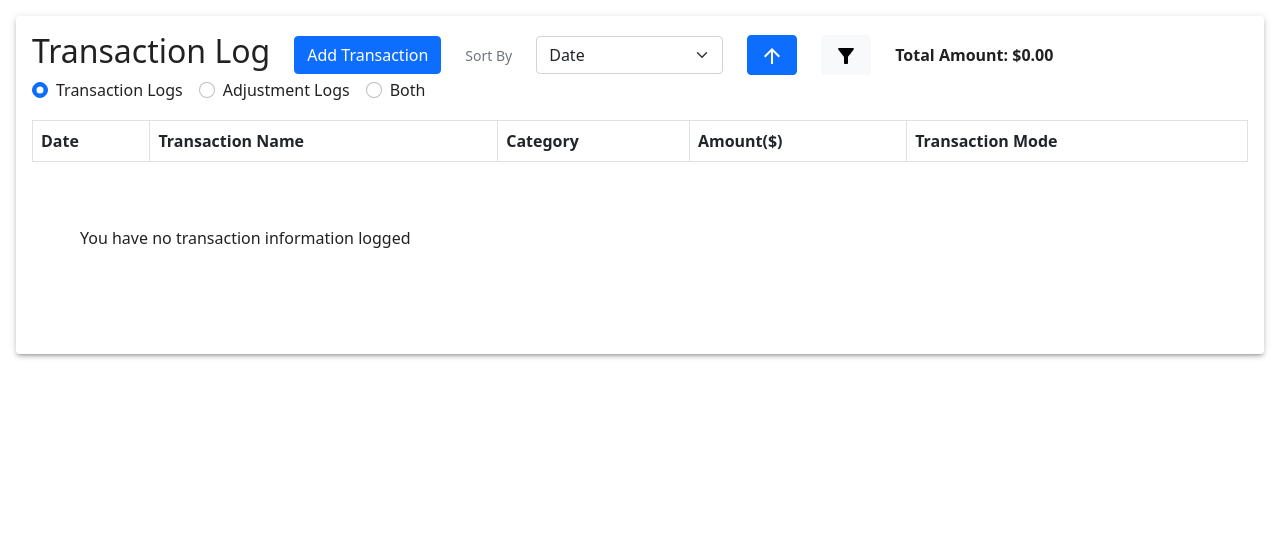
Test: filter variable changes dynamically
Click the button named "filter": {"x": 846, "y": 55} [821,35,871,75]
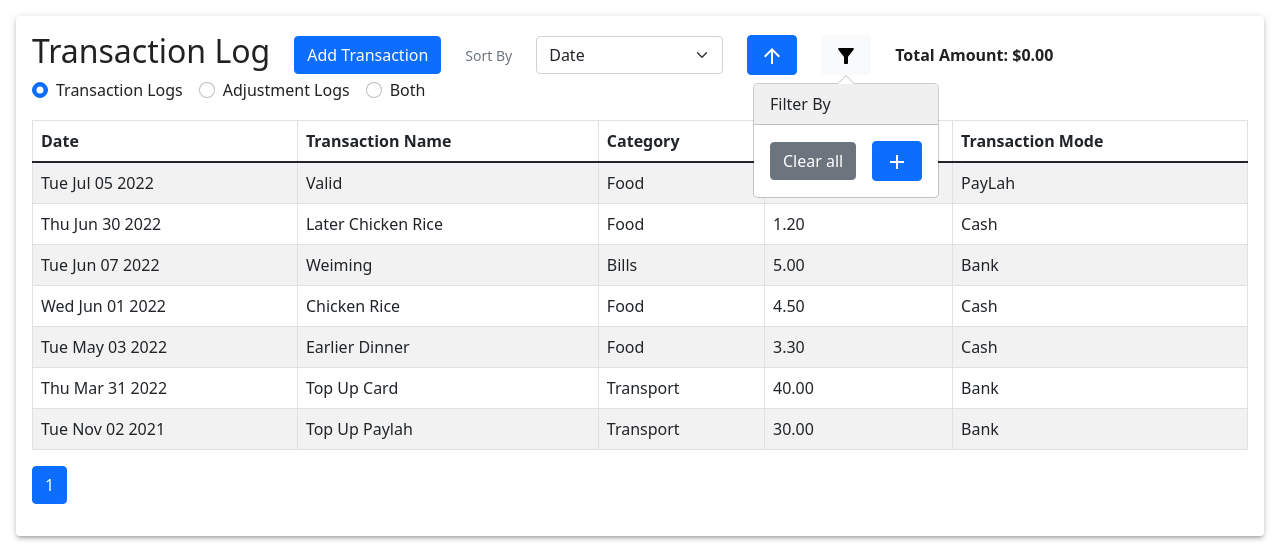
Result: the text "Filter By" is shown at [754,84,938,125]
Click the button named "addfilter": {"x": 897, "y": 161} [872,141,922,181]
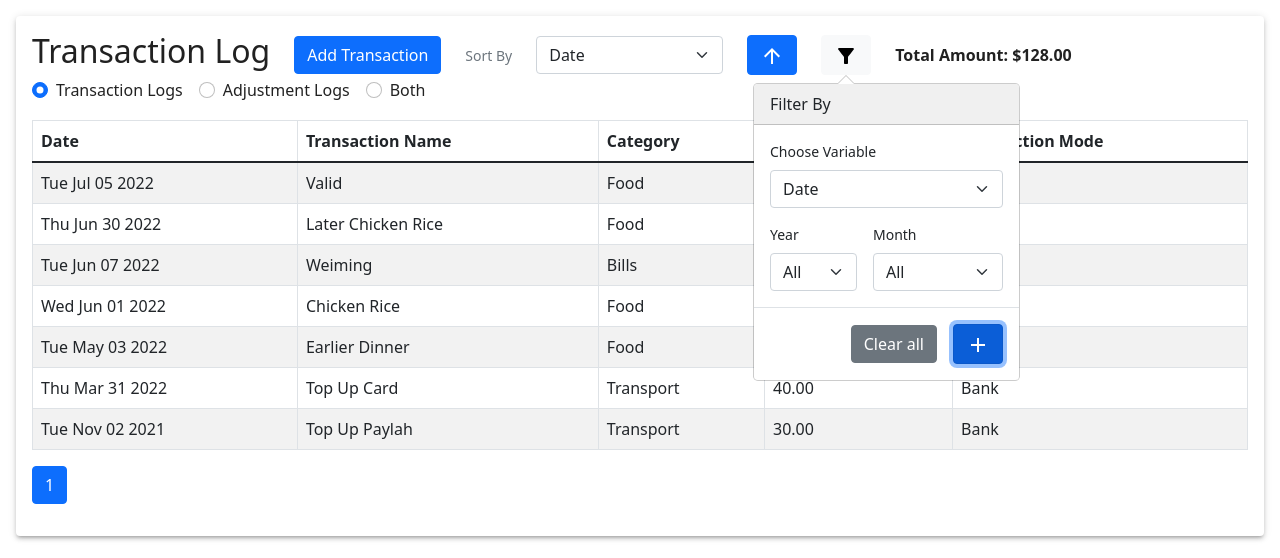
Result: the text "Year" is shown at [770,224,799,245]
Result: the text "Month" is shown at [873,224,916,245]
Result: the dropdown labelled "Choose Variable" is shown
Select "Category" in the dropdown labelled "Choose Variable": {"x": 886, "y": 189} [770,170,1003,208]
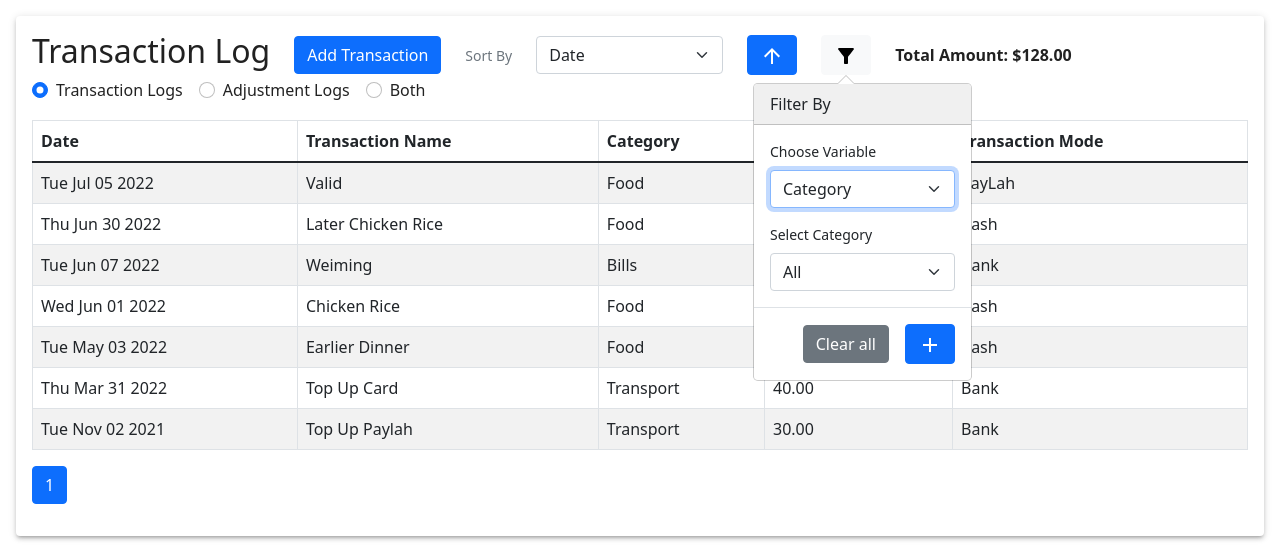
Result: the text "Select Category" is shown at [770,224,872,245]
Select "Amount" in the dropdown labelled "Choose Variable": {"x": 862, "y": 189} [770,170,955,208]
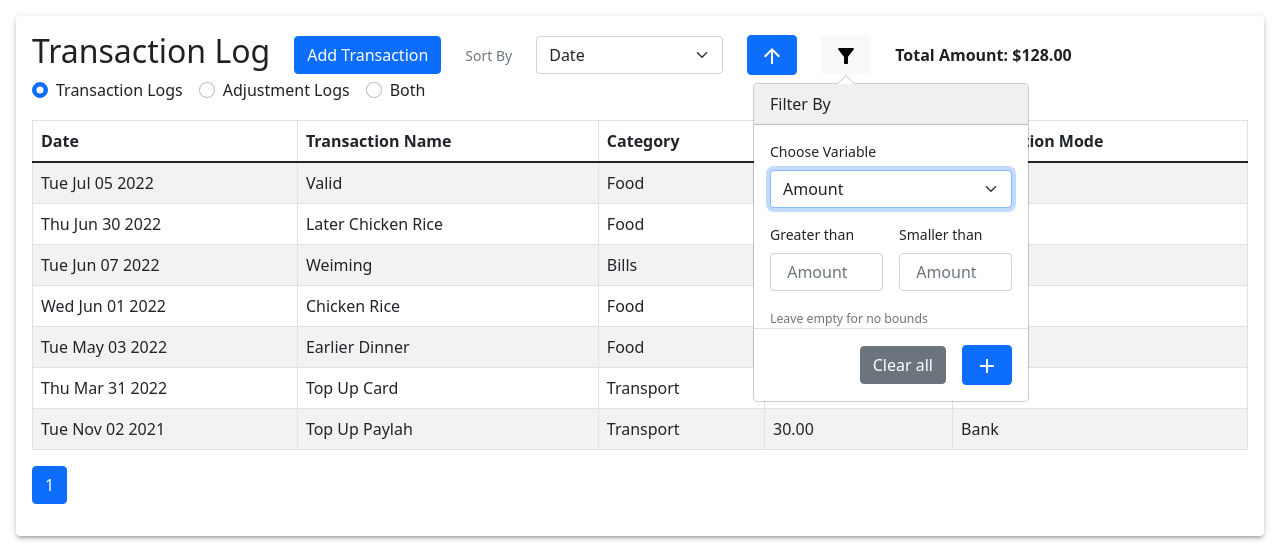
Result: the text "Greater than" is shown at [770,224,854,245]
Result: the text "Smaller than" is shown at [899,224,982,245]
Select "Transaction Mode" in the dropdown labelled "Choose Variable": {"x": 891, "y": 189} [770,170,1012,208]
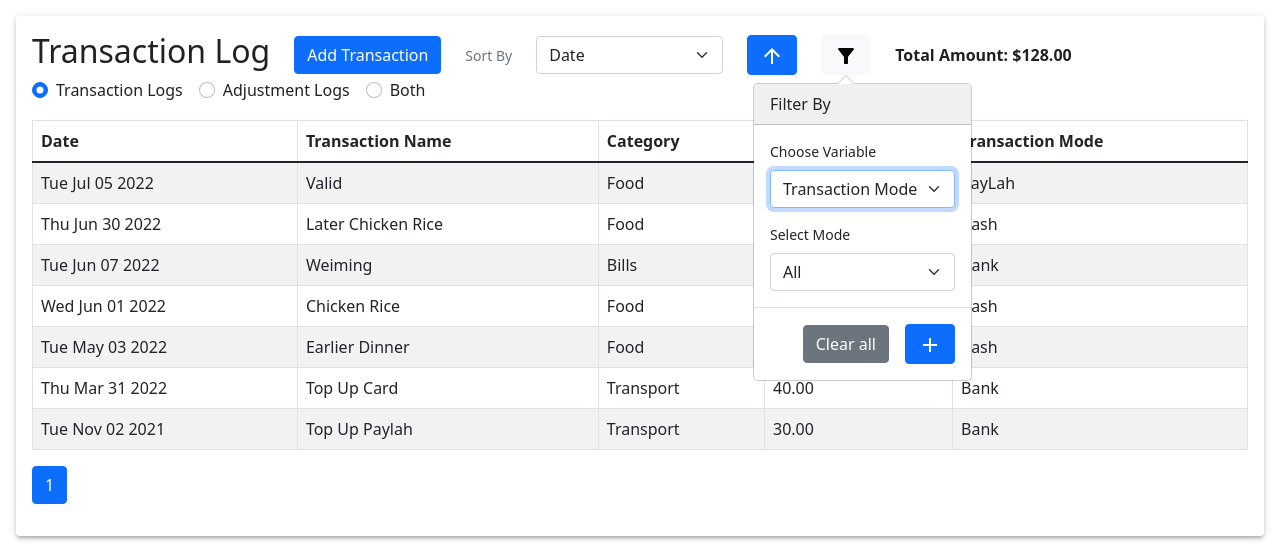
Result: the text "Select Mode" is shown at [770,224,850,245]
